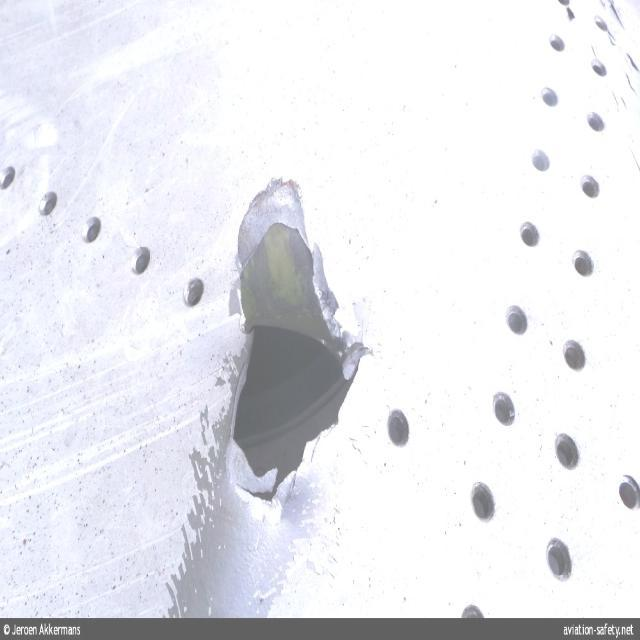crack: (217, 176, 371, 513), (564, 3, 640, 169)
